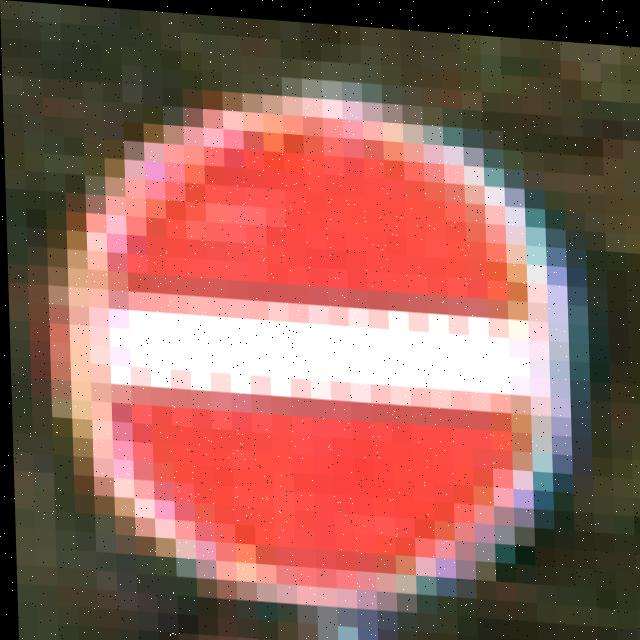road_rough: (55, 52, 586, 630)
